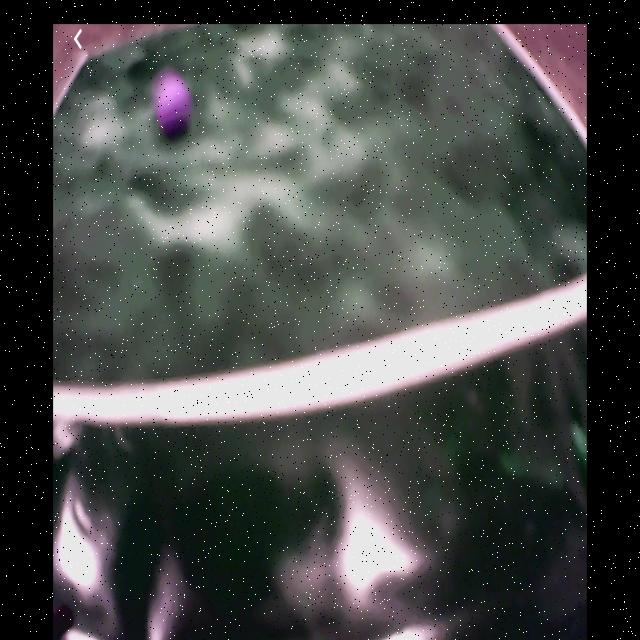ball: (157, 74, 191, 139)
